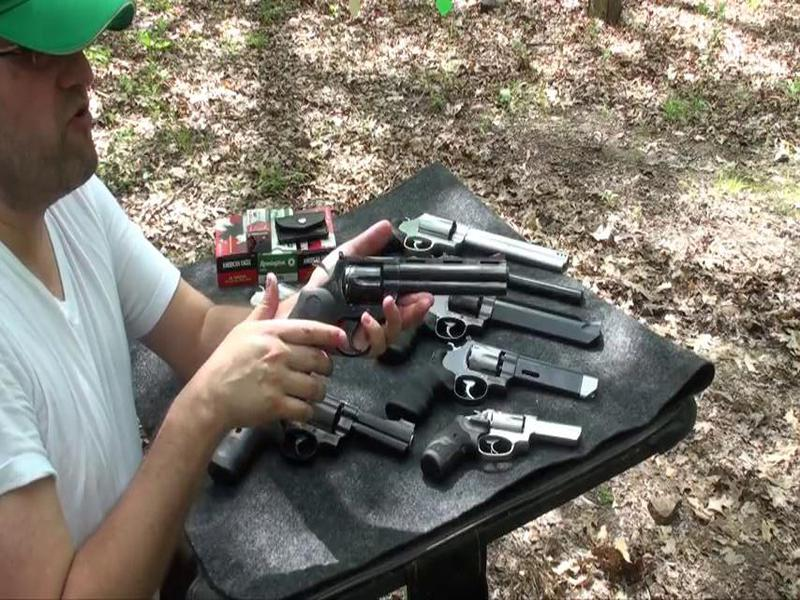Revolver: (280, 243, 523, 363), (427, 401, 588, 476)
